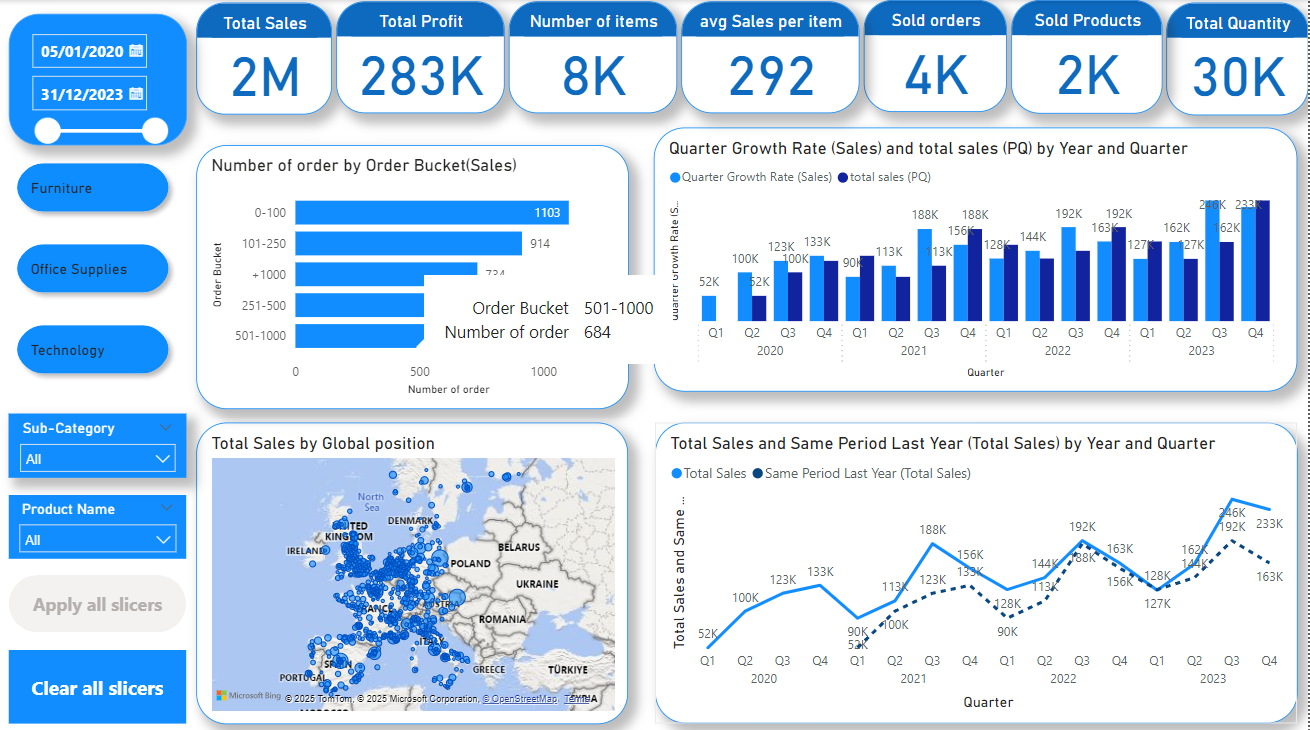

Layout of this report page (visuals, bound fields, positions):
{"tool":"powerbi","page":{"name":"overview","canvas":[1280,720],"ordinal":1},"visuals":[{"type":"card","title":"Total Sales","fields":{"Values":["__Measures.Total Sales"]},"box":[192.1,2.7,133.1,109.8],"z":0},{"type":"card","title":"Total Profit","fields":{"Values":["__Measures.Total profit"]},"box":[329.3,1.4,164.7,109.8],"z":1000},{"type":"card","title":"Total Quantity","fields":{"Values":["__Measures.Total (quantity)"]},"box":[1140.9,2.4,139.4,110.1],"z":2000},{"type":"card","title":"Sold orders","fields":{"Values":["_Descriptive Statistics.Distintcount(orders)"]},"box":[845.1,0,140,109.8],"z":3000},{"type":"card","title":"Number of items","fields":{"Values":["__Measures.Number of items"]},"box":[498,1.4,164.7,109.8],"z":4000},{"type":"card","title":"Sold Products","fields":{"Values":["_Descriptive Statistics.Distintcount(product)"]},"box":[989.1,0,148.2,111.1],"z":5000},{"type":"lineChart","fields":{"Category":["Dim - Date.Year Hierarchy.Year","Dim - Date.Year Hierarchy.Quarter","Dim - Date.Year Hierarchy.MonthNum","Dim - Date.Year Hierarchy.MonthName","Dim - Date.Year Hierarchy.WeekDay","Dim - Date.Year Hierarchy.DAY"],"Y":["__Measures.Total Sales","__Measures.Sply (Total Sales)"]},"box":[640.8,413.3,628.5,294.7],"z":6000},{"type":"clusteredColumnChart","fields":{"Category":["Dim - Date.Year Hierarchy.Year","Dim - Date.Year Hierarchy.Quarter","Dim - Date.Year Hierarchy.MonthNum","Dim - Date.Year Hierarchy.MonthName","Dim - Date.Year Hierarchy.WeekDay","Dim - Date.Year Hierarchy.DAY"],"Y":["__Measures.Quarter Growth Rate (Sales)","__Measures.total sales (PQ)"]},"box":[639.5,124.7,629.8,258],"z":7000},{"type":"map","fields":{"Category":["Dim - Orders.Global position"],"Size":["__Measures.Total Sales"]},"box":[192.1,413,422.6,295],"z":8000},{"type":"barChart","title":"Number of order by Order Bucket(Sales)","fields":{"Y":["__Measures.Number of order"],"Category":["Order Sales.Order Bucket"]},"box":[192,141.8,423.1,258],"z":9000},{"type":"slicer","fields":{"Values":["Dim - Product.Product Name"]},"box":[8.6,484.2,173.6,62.4],"z":10000},{"type":"actionButton","box":[8.6,562.5,173.6,56.3],"z":11000},{"type":"actionButton","box":[8.6,635.9,173.6,72.1],"z":12000},{"type":"advancedSlicerVisual","fields":{"Values":["Dim - Category.Category"]},"box":[0,142.7,182.5,240.1],"z":13000},{"type":"slicer","fields":{"Values":["Dim - Sub-Category.Sub-Category"]},"box":[8.6,404.8,173.6,62.4],"z":14000},{"type":"card","title":"avg Sales per item","fields":{"Values":["__Measures.avg Sales per item"]},"box":[666.8,1.4,174.3,109.8],"z":15000},{"type":"slicer","fields":{"Values":["Dim - Date.Date"]},"box":[8.2,13.7,174.3,129],"z":16000}]}

Visuals, with their boxes in screenshot pixels (x1, y1, x2, y2), scaled from the page's 1280x720 canvas onto the 1310x730 screenshot:
"Total Sales" card: l=197, t=3, r=333, b=114
"Total Profit" card: l=337, t=1, r=506, b=113
"Total Quantity" card: l=1168, t=2, r=1309, b=114
"Sold orders" card: l=865, t=0, r=1008, b=111
"Number of items" card: l=510, t=1, r=678, b=113
"Sold Products" card: l=1012, t=0, r=1164, b=113
lineChart - Dim - Date.Year Hierarchy.Year x Dim - Date.Year Hierarchy.Quarter: l=656, t=419, r=1299, b=718
clusteredColumnChart - Dim - Date.Year Hierarchy.Year x Dim - Date.Year Hierarchy.Quarter: l=654, t=126, r=1299, b=388
map - Dim - Orders.Global position x __Measures.Total Sales: l=197, t=419, r=629, b=718
"Number of order by Order Bucket(Sales)" barChart: l=196, t=144, r=630, b=405
slicer - Dim - Product.Product Name: l=9, t=491, r=186, b=554
actionButton: l=9, t=570, r=186, b=627
actionButton: l=9, t=645, r=186, b=718
advancedSlicerVisual - Dim - Category.Category: l=0, t=145, r=187, b=388
slicer - Dim - Sub-Category.Sub-Category: l=9, t=410, r=186, b=474
"avg Sales per item" card: l=682, t=1, r=861, b=113
slicer - Dim - Date.Date: l=8, t=14, r=187, b=145
